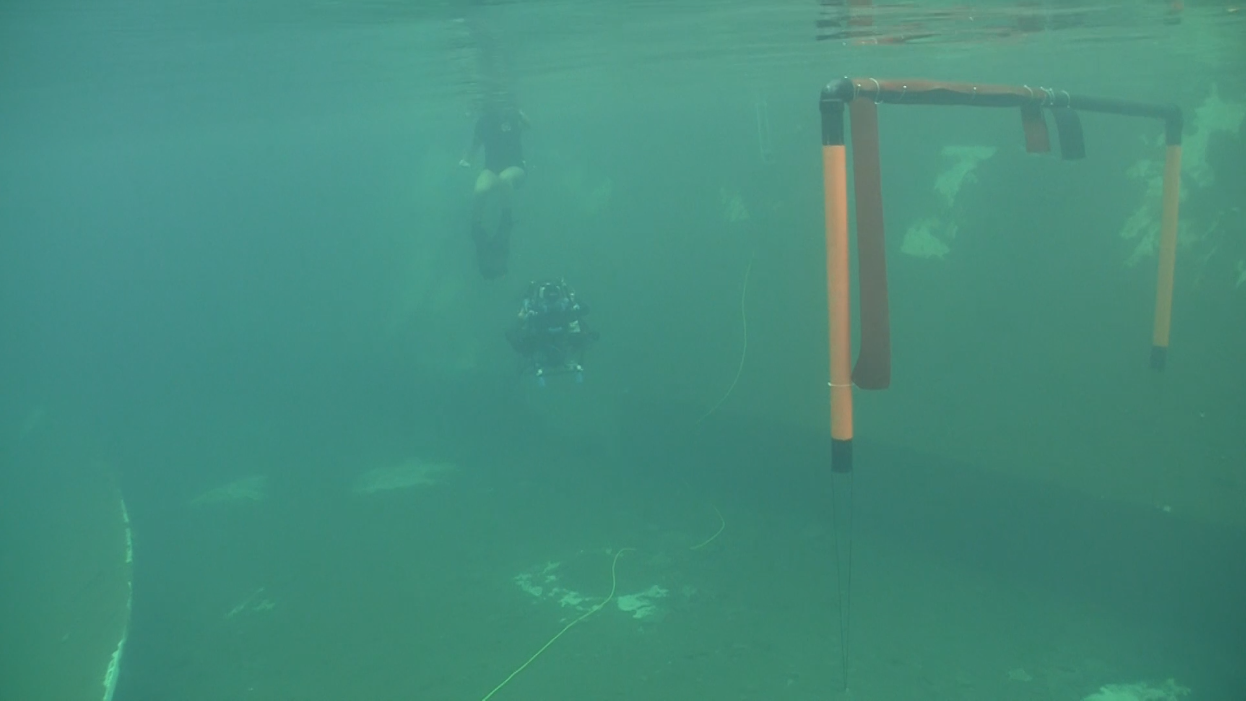gate: (797, 75, 1194, 443)
